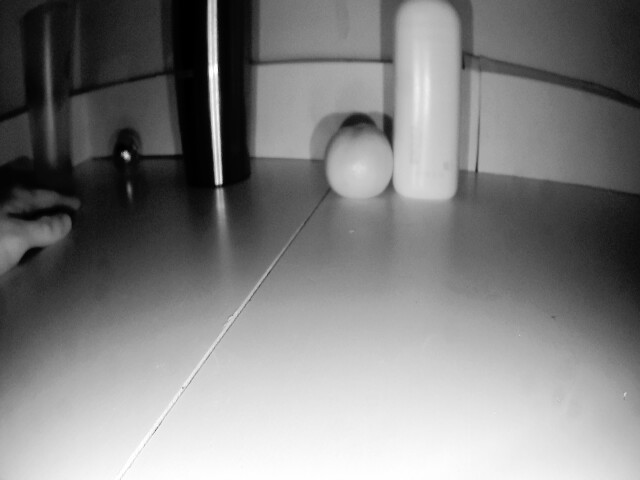silver: (104, 130, 139, 173)
